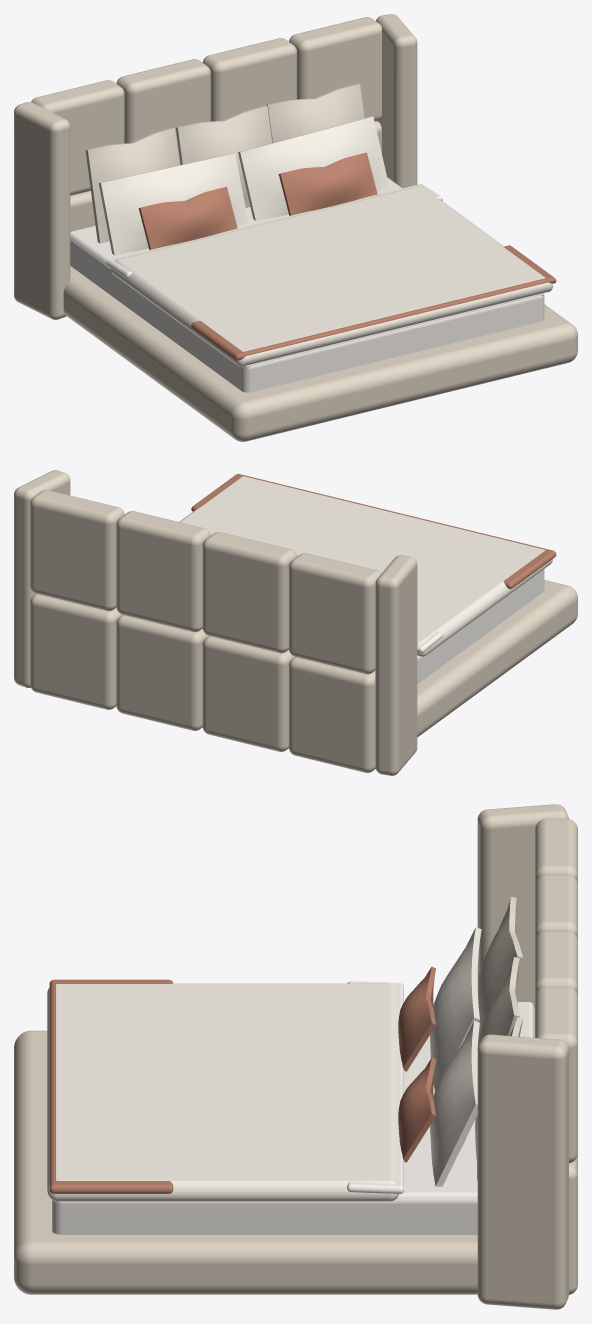
Rendered from atelier-bed-wingback-king.glb.
3 views of the same model, one above another, from view 1: azimuth 30°, elevation 25°; view 2: azimuth 150°, elevation 25°; view 3: azimuth 270°, elevation 25° (orthographic). The views are drawn at different scales.
Size of the model in its own units: 2.48 by 1.22 by 2.37.
